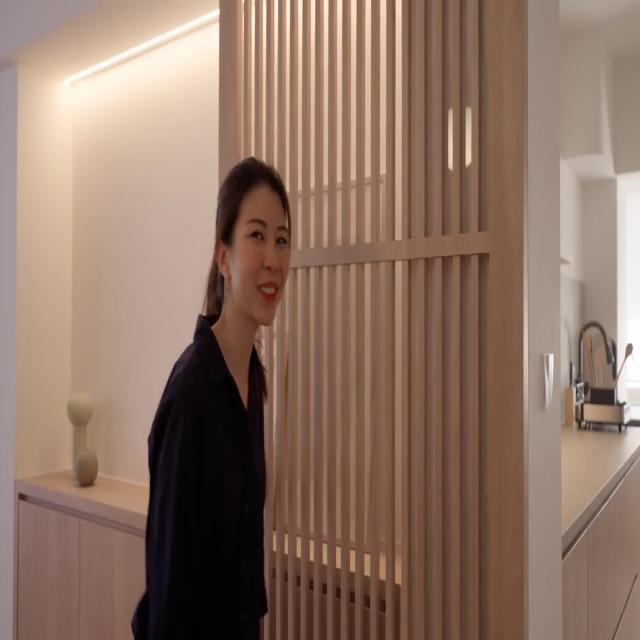door: (224, 0, 528, 638)
person: (131, 156, 291, 639)
